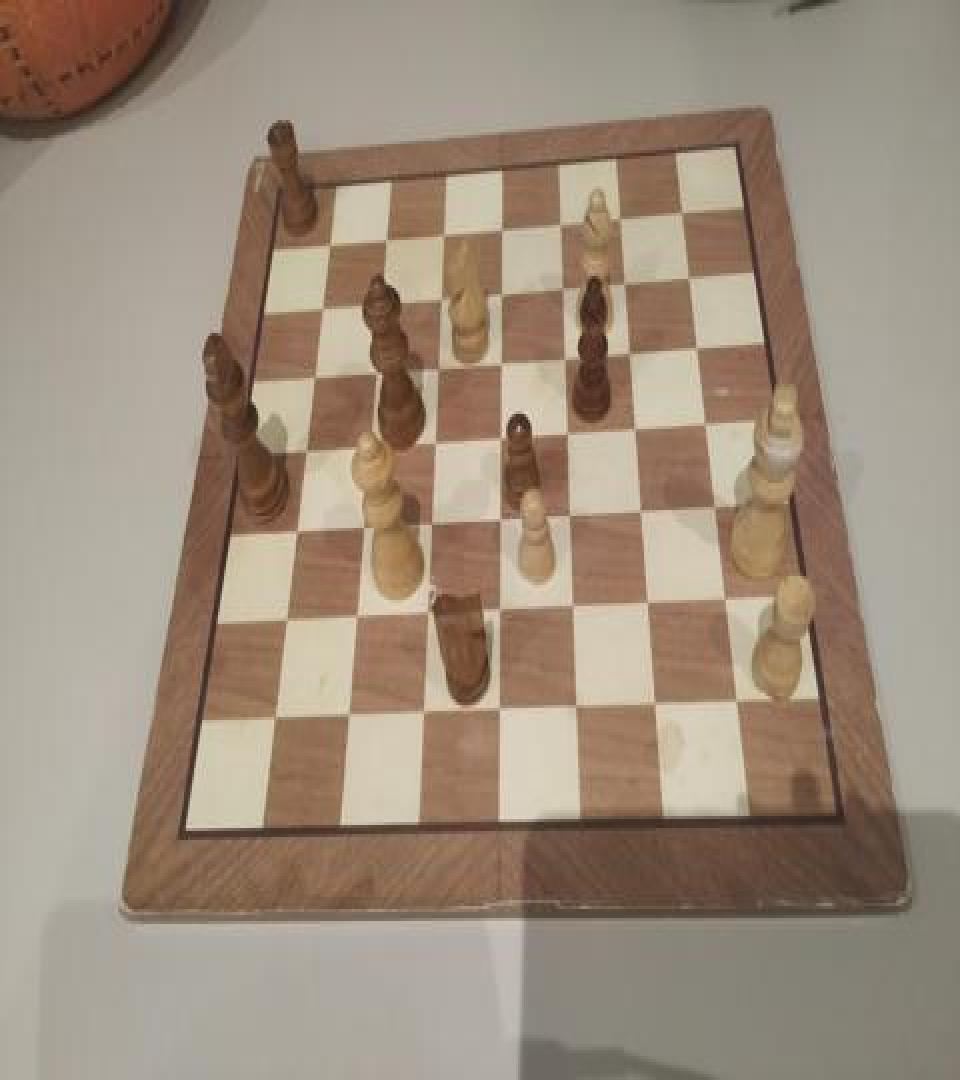xcorner: (563, 499, 583, 530), (432, 280, 452, 311), (264, 702, 284, 732), (338, 699, 358, 729), (491, 694, 511, 724), (569, 692, 589, 722), (649, 690, 669, 720), (730, 687, 750, 717), (275, 603, 295, 633), (346, 600, 366, 630), (418, 597, 438, 627), (492, 594, 512, 624), (566, 591, 586, 621), (641, 588, 661, 618), (718, 584, 738, 614), (286, 513, 306, 543), (353, 510, 373, 540), (422, 507, 442, 537), (492, 502, 512, 532), (635, 495, 655, 525), (708, 492, 728, 522), (295, 432, 315, 462), (360, 428, 380, 458), (426, 424, 446, 454), (492, 420, 512, 450), (560, 416, 580, 446), (628, 411, 648, 441), (698, 408, 718, 438), (304, 357, 324, 387), (366, 352, 386, 382), (429, 350, 449, 380), (492, 345, 512, 375), (557, 340, 577, 370), (623, 336, 643, 366), (689, 330, 709, 360), (312, 290, 332, 320), (371, 285, 391, 315), (493, 274, 513, 304), (555, 270, 575, 300), (617, 266, 637, 296), (681, 261, 701, 291), (319, 226, 339, 256), (376, 220, 396, 250), (434, 216, 454, 246), (493, 212, 513, 242), (552, 207, 572, 237), (612, 201, 632, 231), (673, 196, 693, 226), (414, 698, 434, 727)
